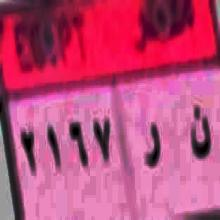1: (45, 116, 62, 176)
2: (20, 122, 38, 183)
6: (68, 116, 88, 183)
7: (92, 111, 114, 162)
noon: (186, 101, 212, 178)
raa: (140, 110, 163, 180)
